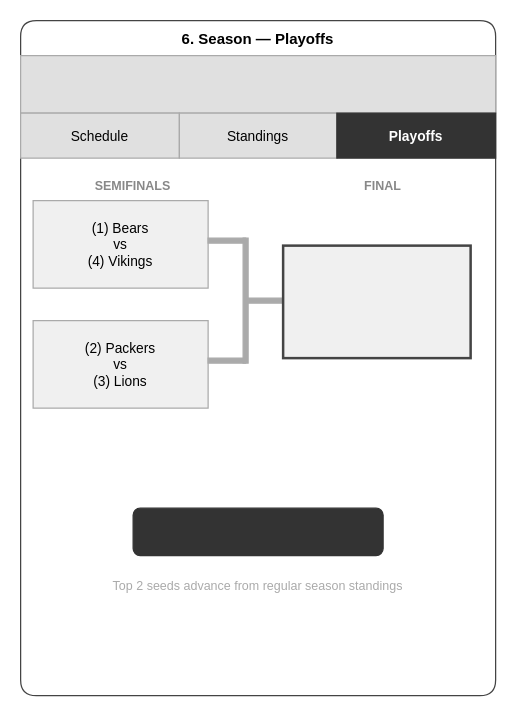
Some shapes in this 516 by 716 pixel diagram are drawn without their labels. Here are the shapes that lost their labels. From the top down, the centre of each, then its label:
At point 257,83: "← Dashboard Season 2".
At point 376,301: "Championship Final TBD vs TBD Simulate to reveal →".
At point 257,531: "Simulate Playoffs".
